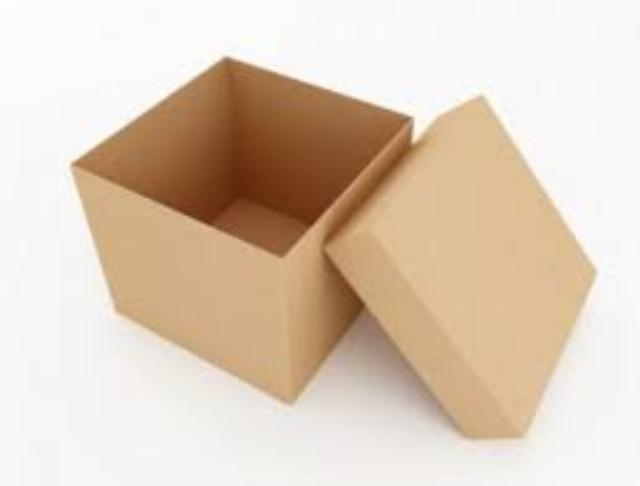cardboard paper: (69, 55, 407, 397), (322, 94, 590, 432)
